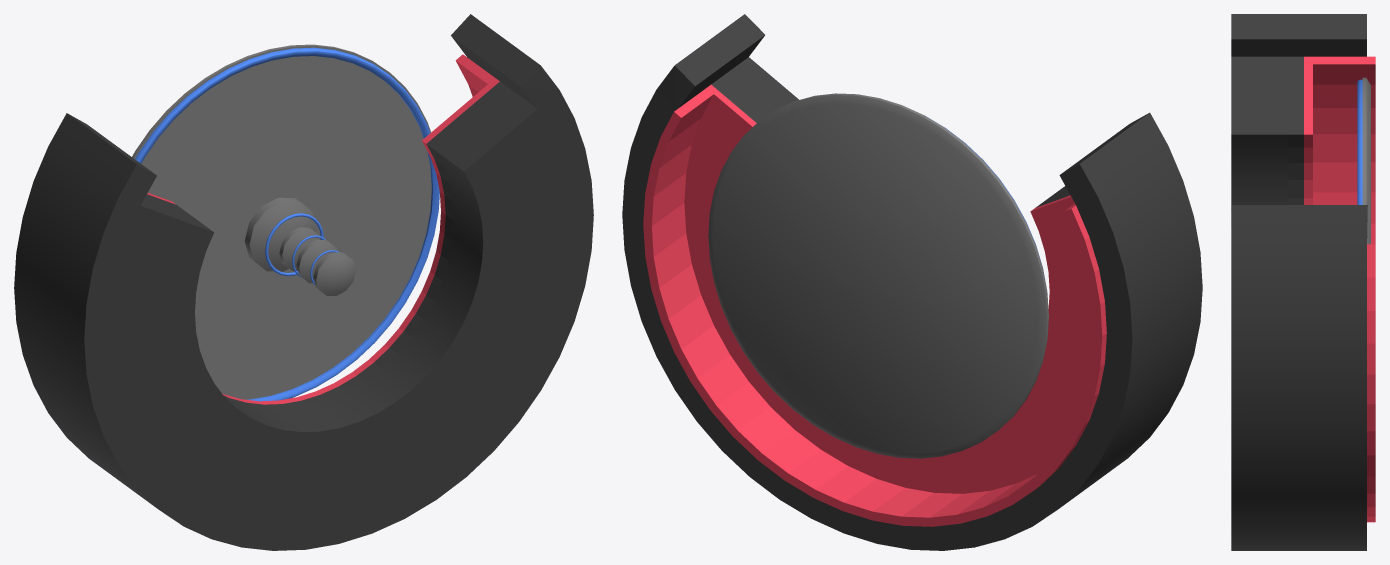
File: BP_Booth_low.fbx
3 renders of one model, left to right at view 1: azimuth 30°, elevation 25°; view 2: azimuth 150°, elevation 25°; view 3: azimuth 270°, elevation 25°, orthographic. The views are drawn at different scales.
Visible parts, largest first — view 1: Cylinder003; view 2: Cylinder003; view 3: Cylinder003.
Boxes of the visible parts, x1,y1,x2,y2 form: Cylinder003: (14, 14, 593, 550); Cylinder003: (622, 14, 1202, 550); Cylinder003: (1231, 14, 1375, 550).
Size of the model in its own units: 274 by 228 by 69.49.
